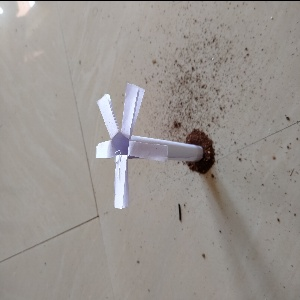weed: (84, 88, 211, 215)
